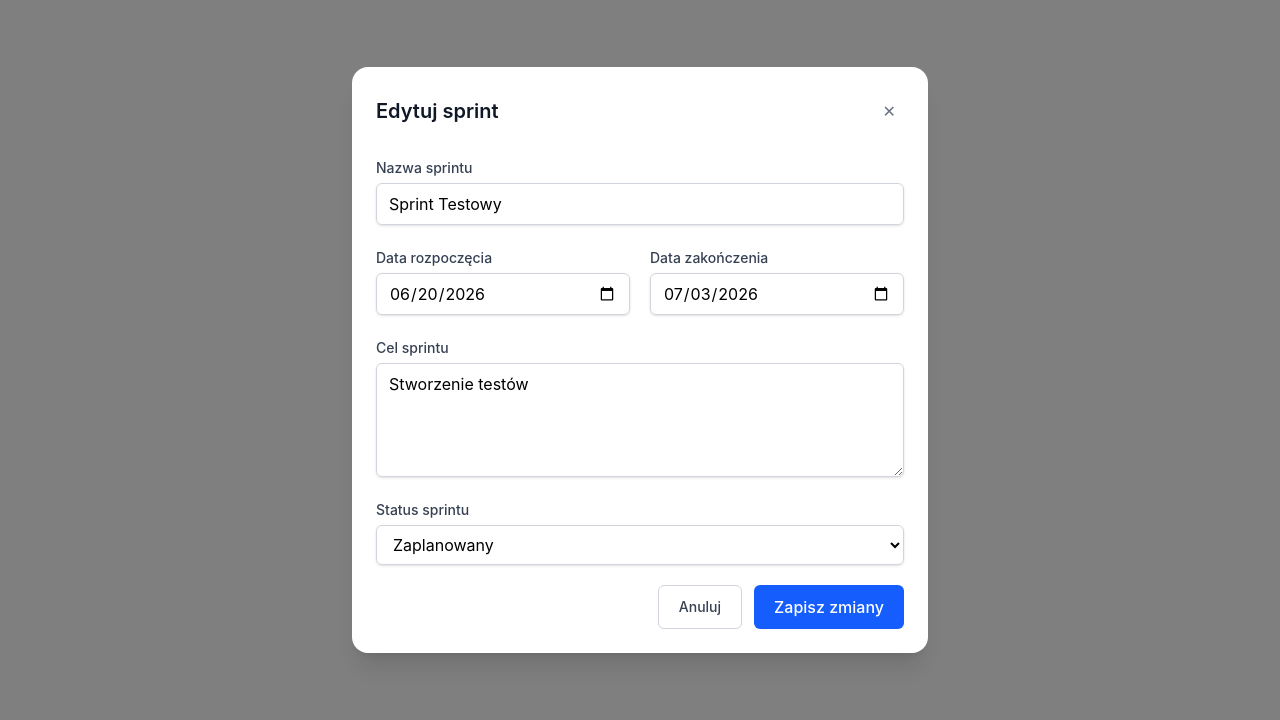
Test: EditProjectSprintModal › powinien zablokować wysyłkę, jeśli wyczyszczono wymaganą nazwę sprintu
Replace the text in the field named "name" with "ab" at (640, 204), box [376,183,904,225]
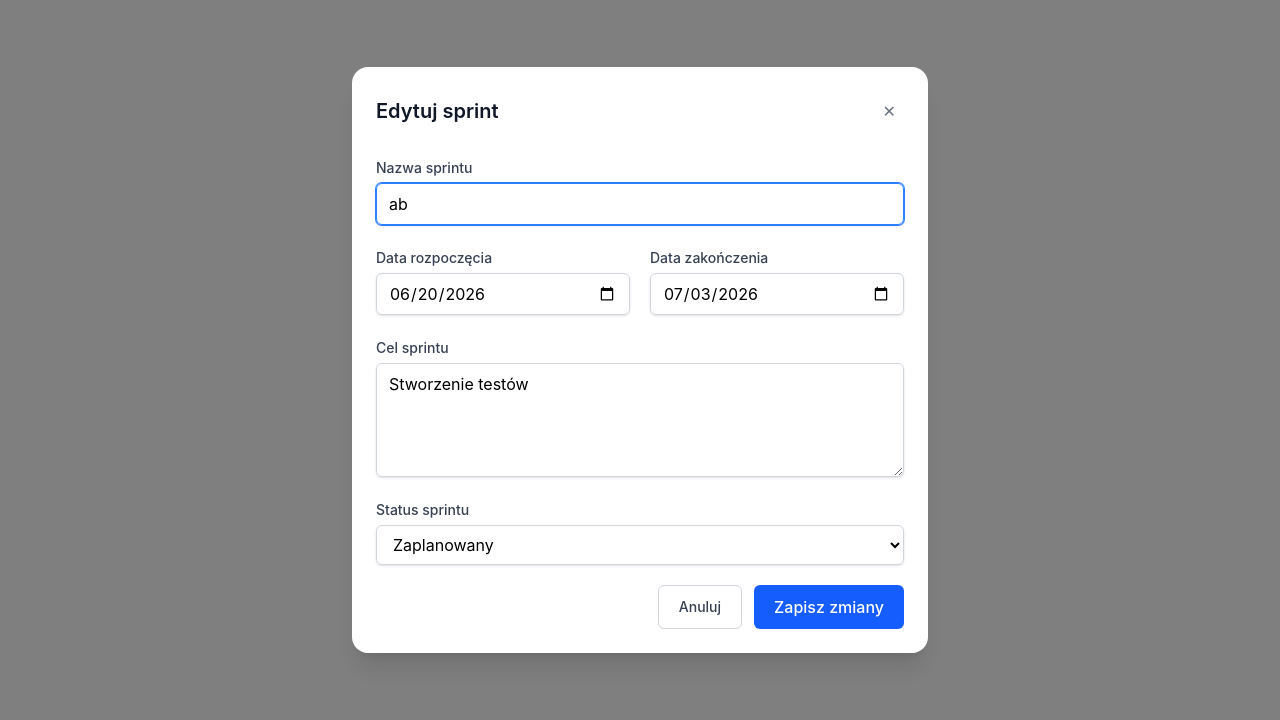
Click the button "Zapisz zmiany" at (829, 607), box [754,585,904,629]
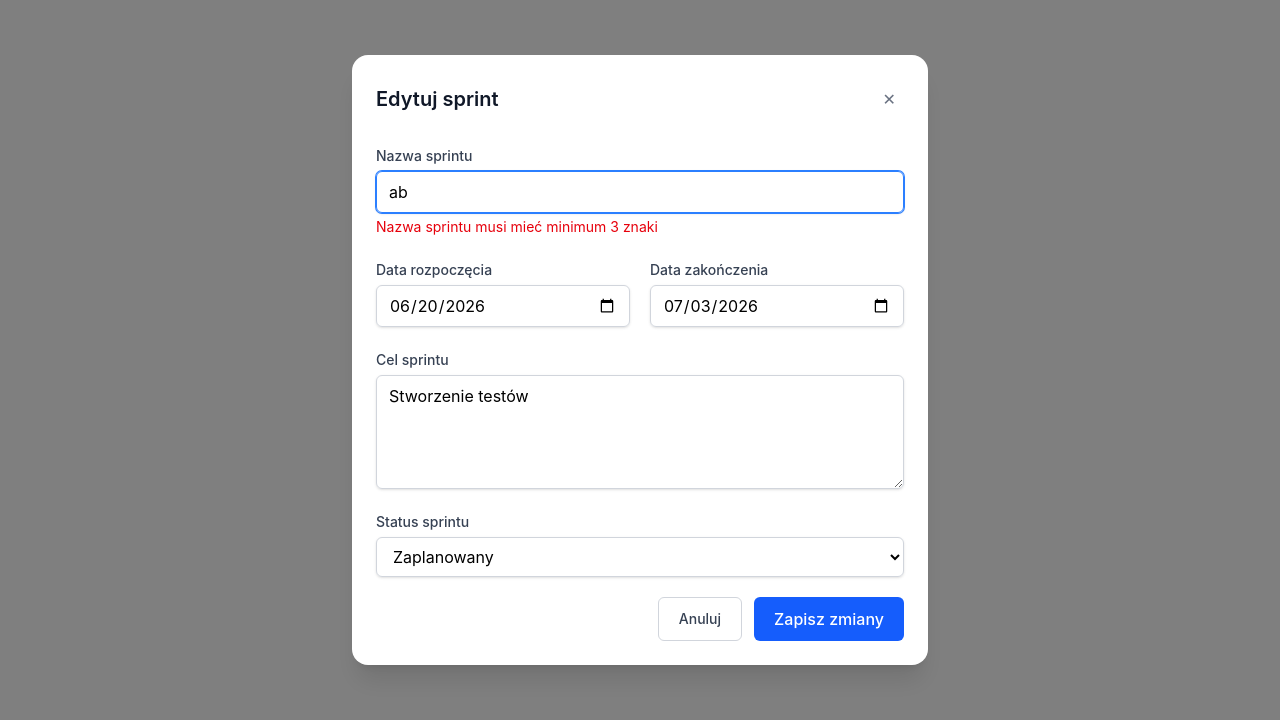
Check: the text "Nazwa sprintu musi mieć minimum 3 znaki" is shown, box [376,218,658,235]
